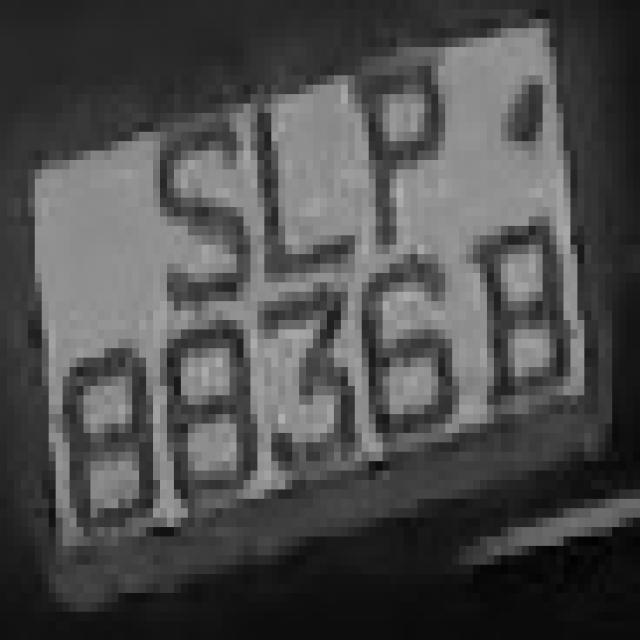3: (250, 273, 355, 480)
6: (348, 226, 452, 461)
8: (146, 301, 264, 546), (56, 320, 167, 546)
B: (459, 188, 578, 424)
L: (236, 75, 368, 301)
P: (348, 47, 445, 264)
S: (139, 104, 251, 310)
